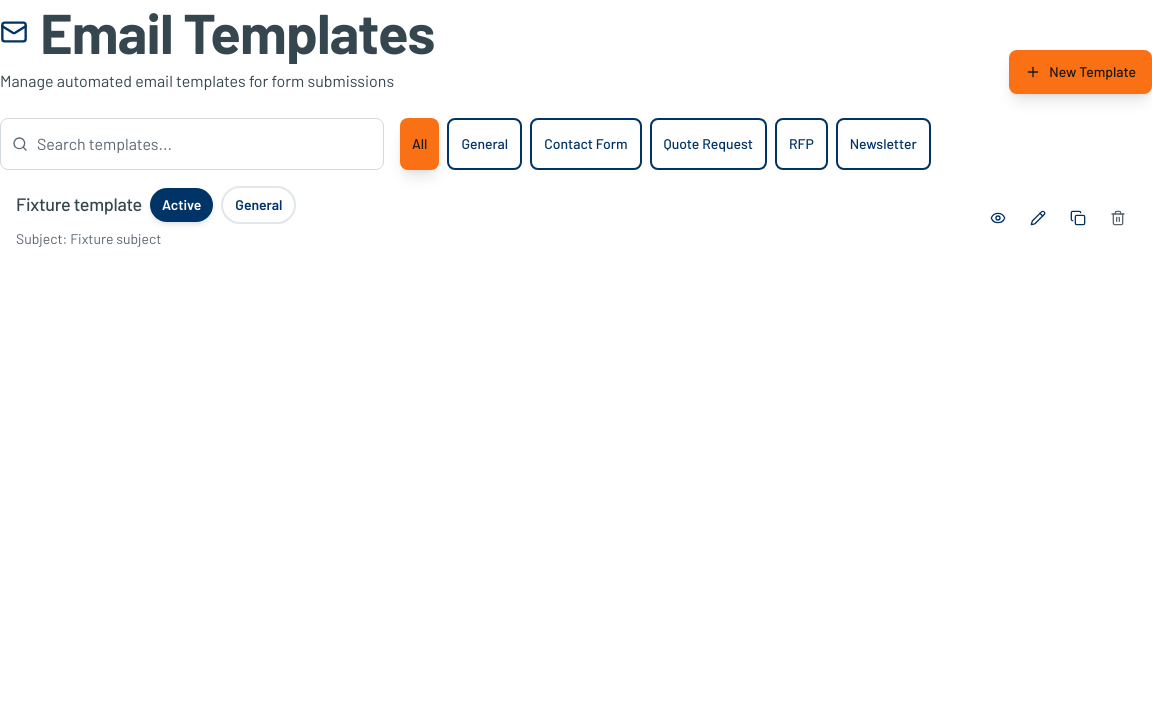
admin delete confirmation › requires confirmation and supports cancellation for email templates
Later steps or results of the test are not shown.
Click the button named "Delete".
click(1118, 218)  # box [1100,200,1136,236]
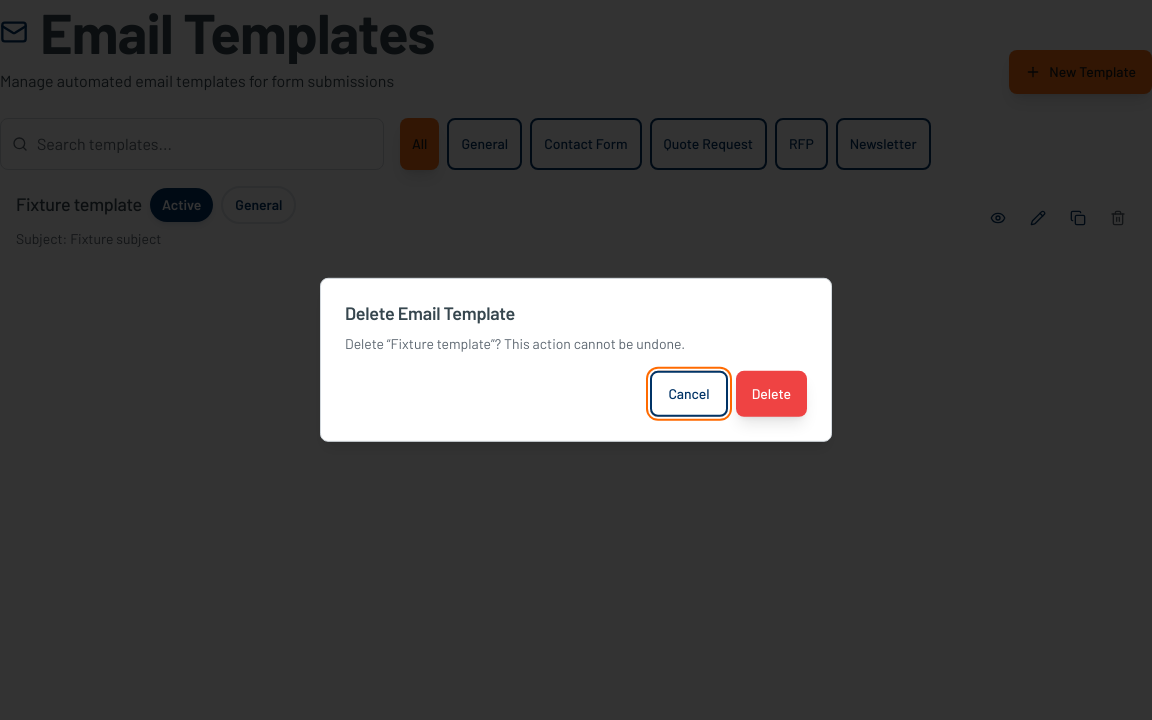
expect the dialog is shown: met, box [320,278,832,442]
Click the button "Cancel".
click(689, 394)  # box [650,371,728,417]
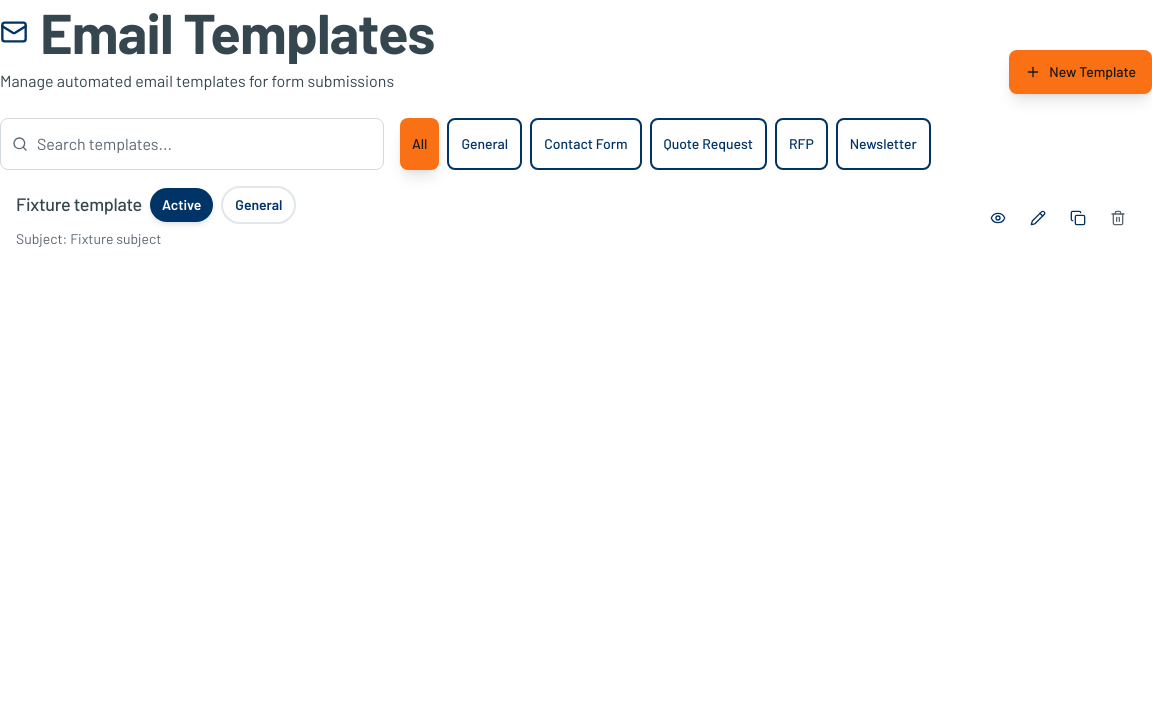
expect the dialog is gone: met
